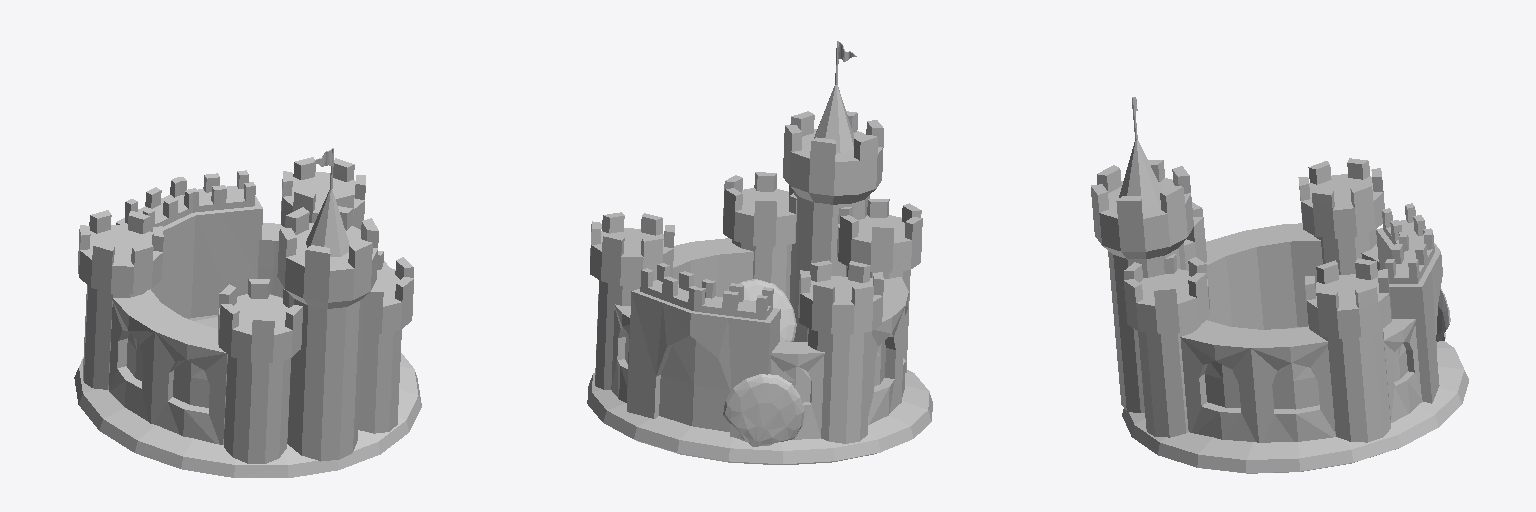
File: Chest.obj
The picture shows the model from 3 angles: view 1: azimuth 30°, elevation 25°; view 2: azimuth 150°, elevation 25°; view 3: azimuth 270°, elevation 25°; orthographic projection.
Visible parts, largest first — view 1: Handle1; view 2: Handle1; view 3: Handle1.
Boxes of the visible parts, x1,y1,x2,y2 form: Handle1: [74, 148, 421, 477]; Handle1: [587, 41, 932, 464]; Handle1: [1091, 97, 1468, 473].
Size of the model in its own units: 1.63 by 1.65 by 1.76.